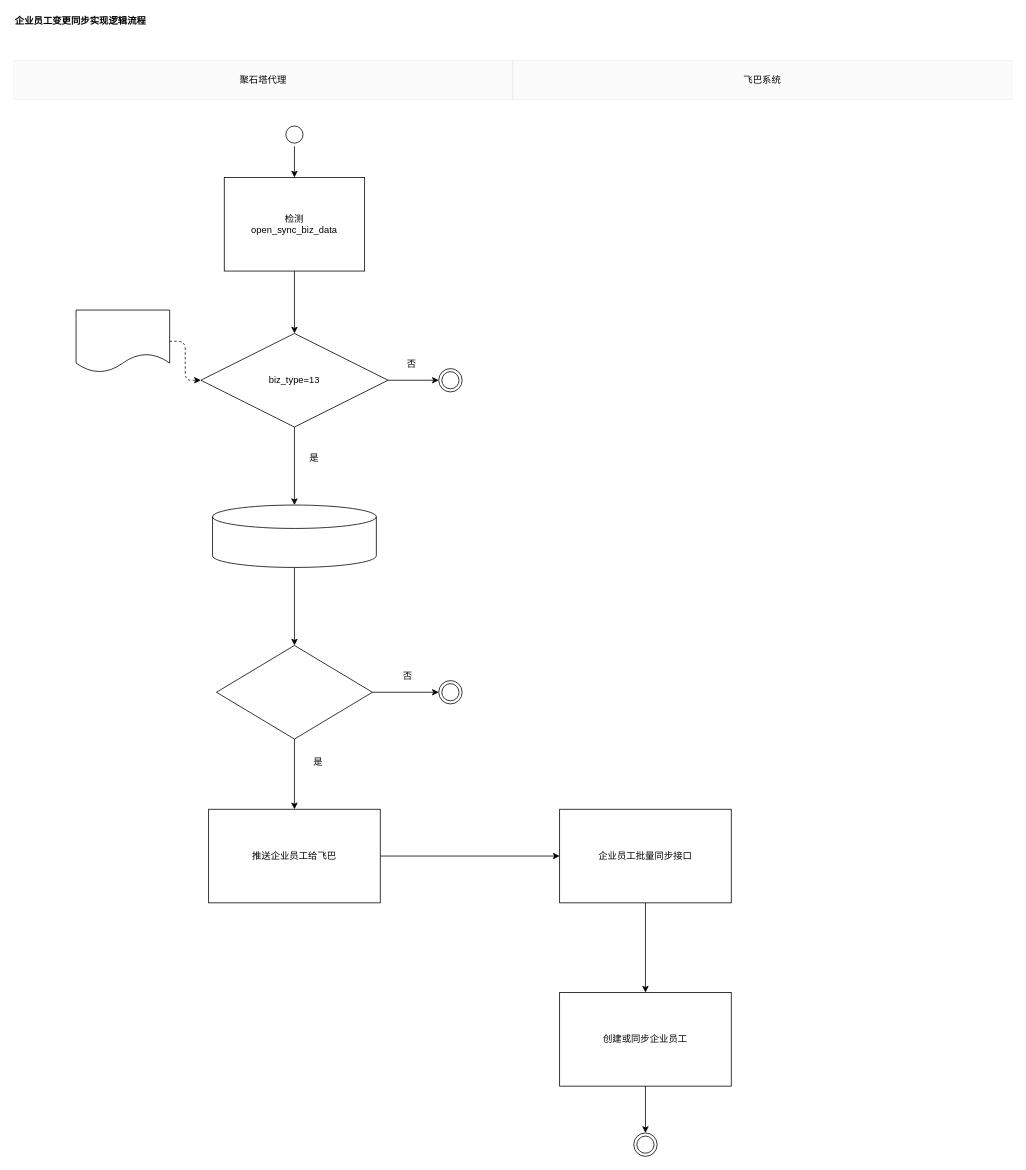
Some shapes in this 1026 by 1170 pixel diagram are drawn without their labels. The centre of each missing label's shape, as x and y in pixels:
"Redis中取当前企业开通状态" belongs at (x=294, y=535).
"企业是否已开通" belongs at (x=294, y=692).
"企业用户变更，包含用户添加、修改、删除" belongs at (x=122, y=340).
